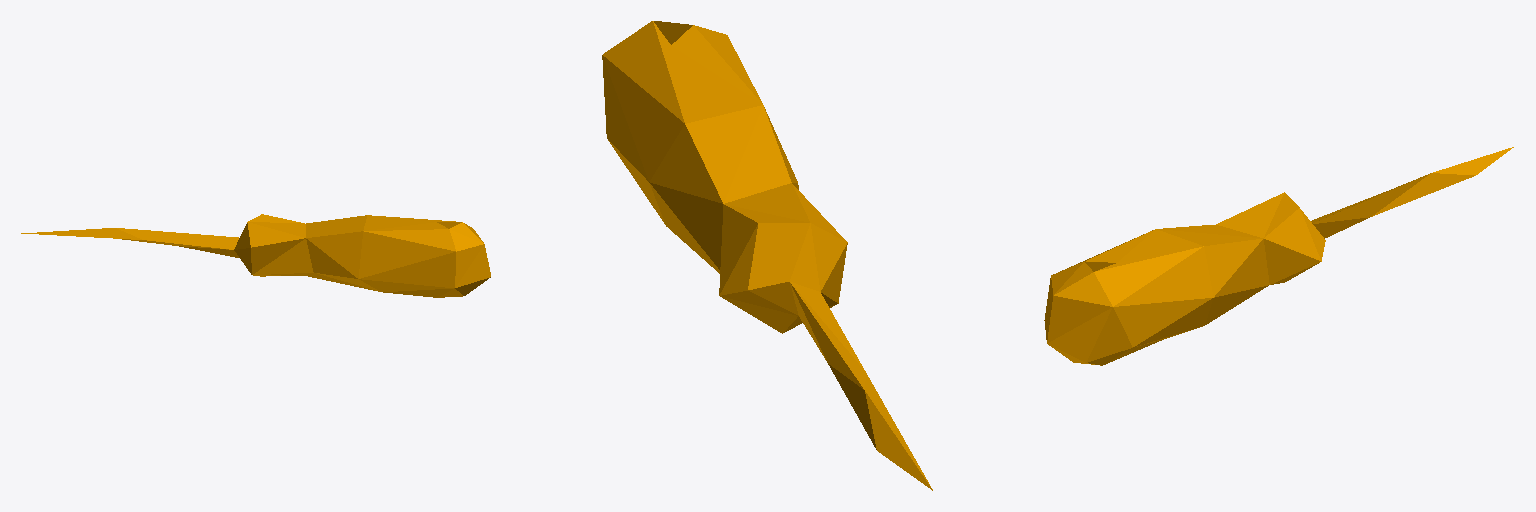
robot.urdf — 044_flat_screwdriver:
<?xml version="1.0" encoding="UTF-8"?>
<robot name="044_flat_screwdriver">
	<link name="base">
		<collision>
			<geometry>
				<mesh filename="../vhacd/044_flat_screwdriver_vhacd.obj" scale="1.0 1.0 1.0"/>
			</geometry>
			<origin xyz="0 0 0"/>
			<contact_coefficients mu="0.24" />
		</collision>
		<visual>
			<geometry>
				<mesh filename="../vhacd/044_flat_screwdriver_vhacd.obj" scale="1.0 1.0 1.0"/>
			</geometry>
			<origin xyz="0 0 0"/>
		</visual>
		<inertial>
			<mass value="0.2"/>
			<inertia ixx="0.00014385602078289986" ixy="0.00012572275151015783" ixz="-6.949971135427447e-06" iyy="0.00015316553344483326" iyz="6.724044282408073e-06" izz="0.000273995440516595" />
			<origin xyz="0.023228351348212984 -0.022705560617390267 0.01617982169382291"/>
		</inertial>
	</link>
</robot>

--- Render facts (derived) ---
The picture shows the robot from 3 angles, left to right: view 1: azimuth 30°, elevation 25°; view 2: azimuth 150°, elevation 25°; view 3: azimuth 270°, elevation 25°; orthographic projection.
Robot: 044_flat_screwdriver — 1 links, 0 joints (none); root link base; default pose: all joints at 0.
Links seen in each view (by area): view 1: base; view 2: base; view 3: base.
Boxes of the visible links, left/top/right/bottom form: base: left=21, top=214, right=490, bottom=297; base: left=602, top=21, right=932, bottom=490; base: left=1044, top=147, right=1513, bottom=365.
Size in the robot's own frame: 0.1612 by 0.1504 by 0.037 metres.
Meshes: 1 distinct files referenced, 1 mesh visuals loaded (1 OBJ).